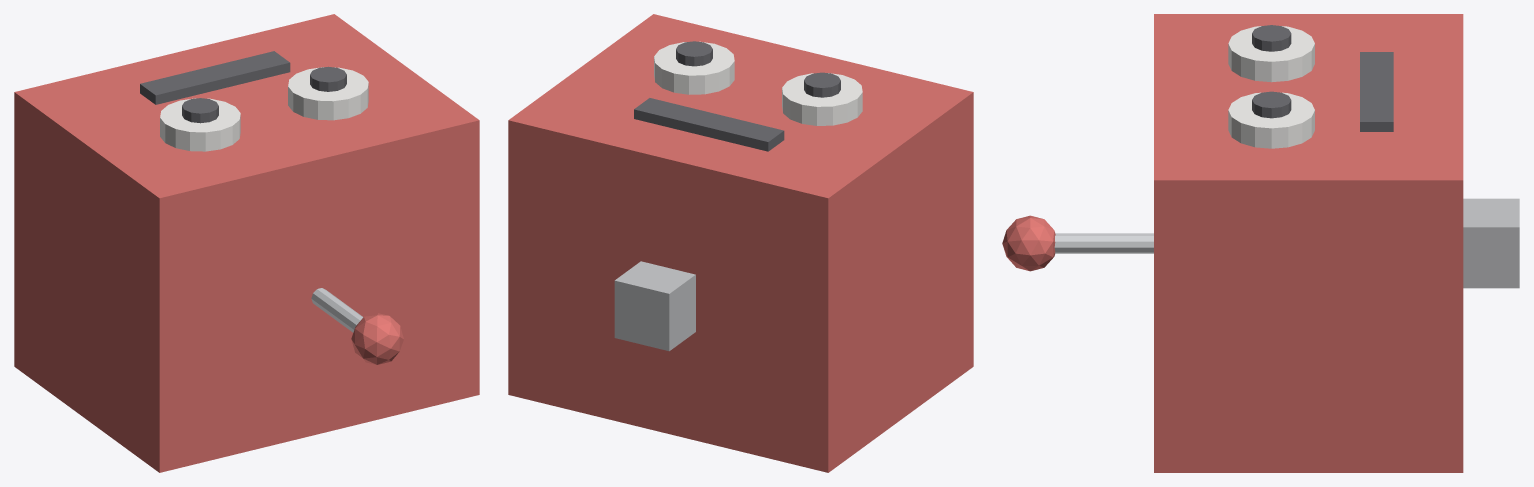
Rendered from robot_head.glb.
3 renders of one model, left to right at view 1: azimuth 30°, elevation 25°; view 2: azimuth 150°, elevation 25°; view 3: azimuth 270°, elevation 25°, orthographic. The views are drawn at different scales.
Parts seen in each view (by area): view 1: plastic_red, white_plastic, metal_black, steel; view 2: plastic_red, plastic_gray, white_plastic, metal_black; view 3: plastic_red, white_plastic, plastic_gray, metal_black, steel.
Boxes of the visible parts, bbox=[...] form: plastic_red: bbox=[14, 14, 479, 472]; white_plastic: bbox=[160, 67, 368, 151]; metal_black: bbox=[140, 51, 346, 123]; steel: bbox=[311, 288, 363, 332]; plastic_red: bbox=[508, 14, 973, 472]; plastic_gray: bbox=[614, 261, 695, 351]; white_plastic: bbox=[654, 41, 862, 125]; metal_black: bbox=[634, 41, 840, 151]; plastic_red: bbox=[1002, 14, 1463, 472]; white_plastic: bbox=[1228, 26, 1314, 148]; plastic_gray: bbox=[1463, 198, 1519, 288]; metal_black: bbox=[1252, 25, 1393, 131]; steel: bbox=[1054, 233, 1153, 253].
Size of the model in its own units: 0.07 by 0.0634 by 0.092.
